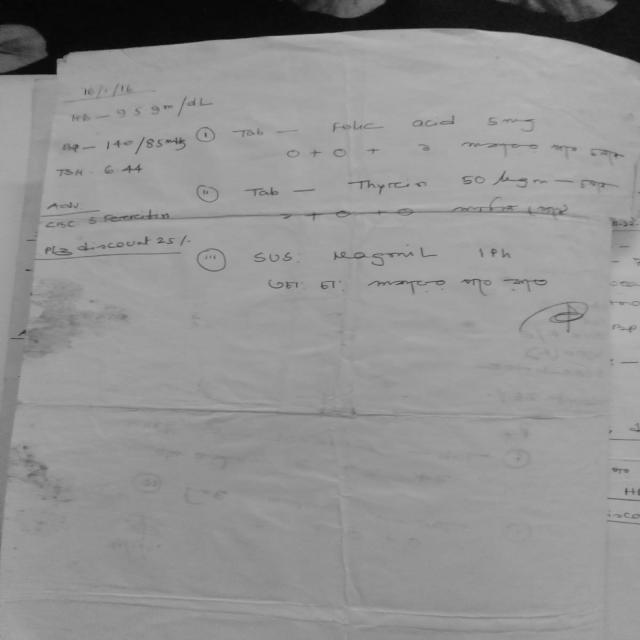Folic: (325, 116, 391, 138)
Magmil: (320, 239, 441, 267)
Thyrin: (346, 175, 437, 193)
